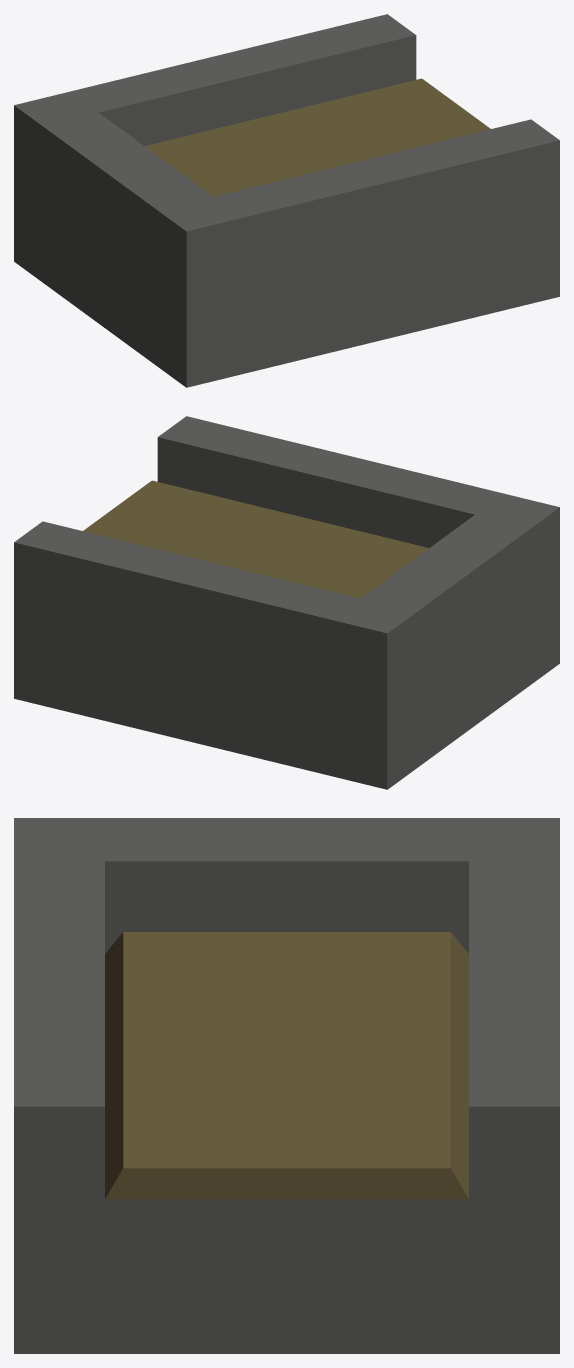
Rendered from Garden Bed End.fbx.
The picture shows the model from 3 angles, top to bottom: view 1: azimuth 30°, elevation 25°; view 2: azimuth 150°, elevation 25°; view 3: azimuth 270°, elevation 25°; orthographic projection. The views are drawn at different scales.
Parts seen in each view (by area): view 1: Garden Bed End; view 2: Garden Bed End; view 3: Garden Bed End.
Part boxes in pixels (left/top/right/bottom): Garden Bed End: left=14, top=14, right=559, bottom=387; Garden Bed End: left=14, top=416, right=559, bottom=789; Garden Bed End: left=14, top=818, right=559, bottom=1353.
Bounding box in the file's own units: 1000 × 400 × 800.
